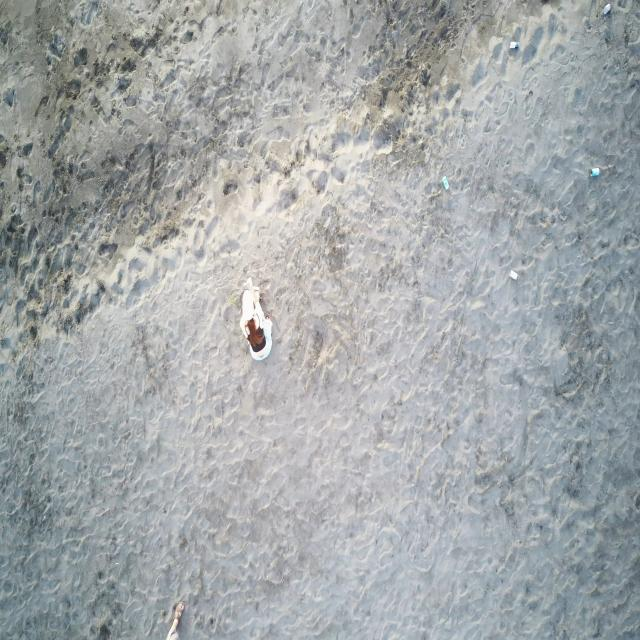Garbage: (240, 278, 271, 360), (166, 602, 183, 639), (602, 4, 611, 15), (508, 40, 519, 48), (590, 167, 599, 176), (508, 270, 516, 280), (442, 176, 447, 190)
